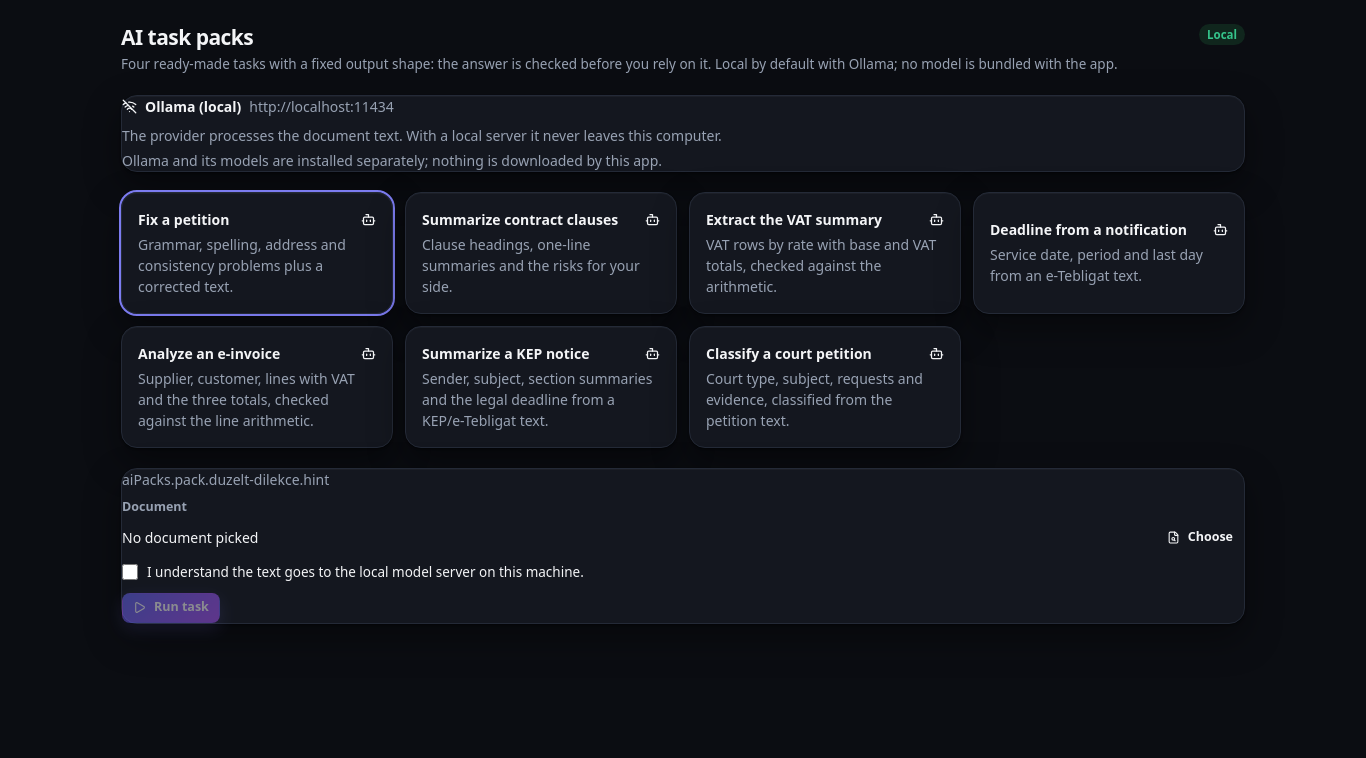
AiPacks (C7) › runs a pack through ai_chat and verifies the structured answer
The image size is (1366, 758).
Expected: the text "Local" is shown, [1199, 24, 1245, 45]
Click the button "Choose".
click(1200, 537)  # box [1156, 522, 1244, 552]
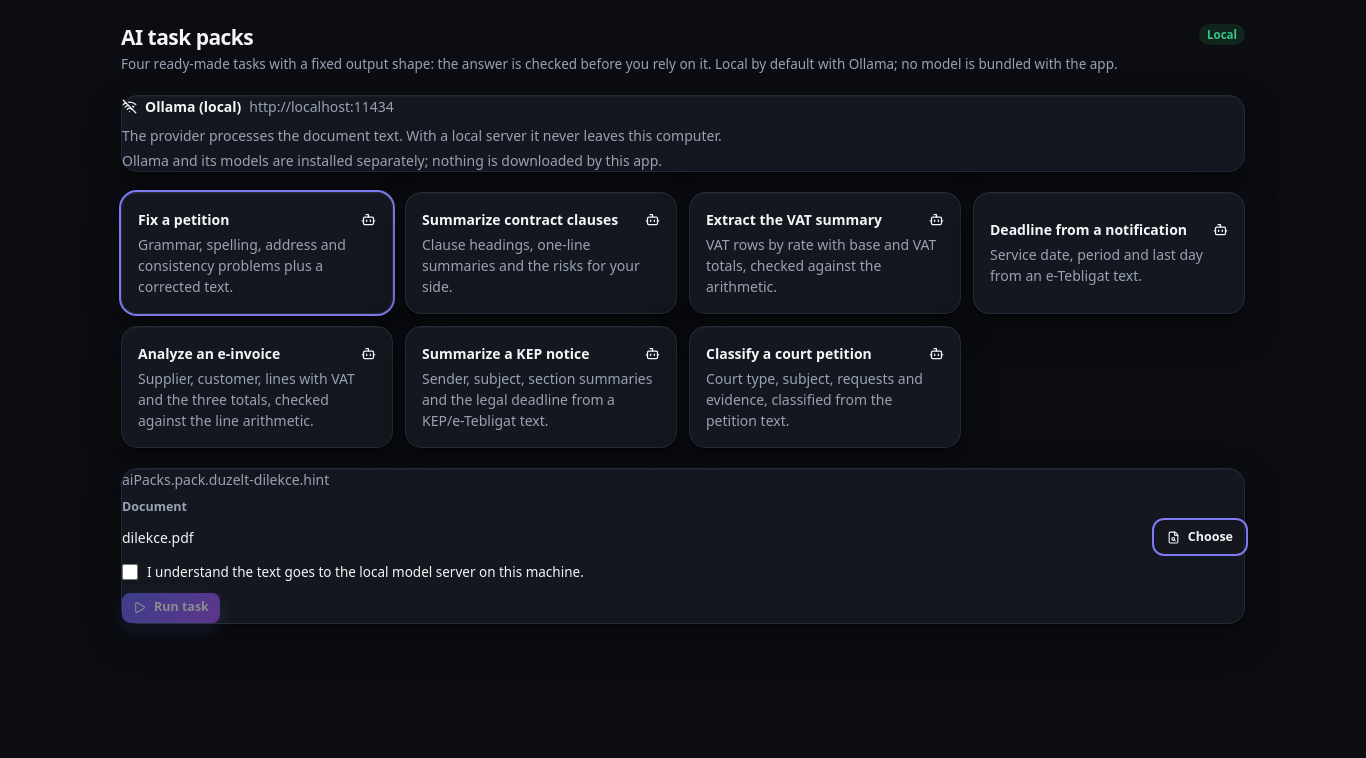
Expected: the text "dilekce.pdf" is shown, [122, 528, 194, 547]
Click the checkbox.
click(130, 572)  # box [122, 564, 138, 580]
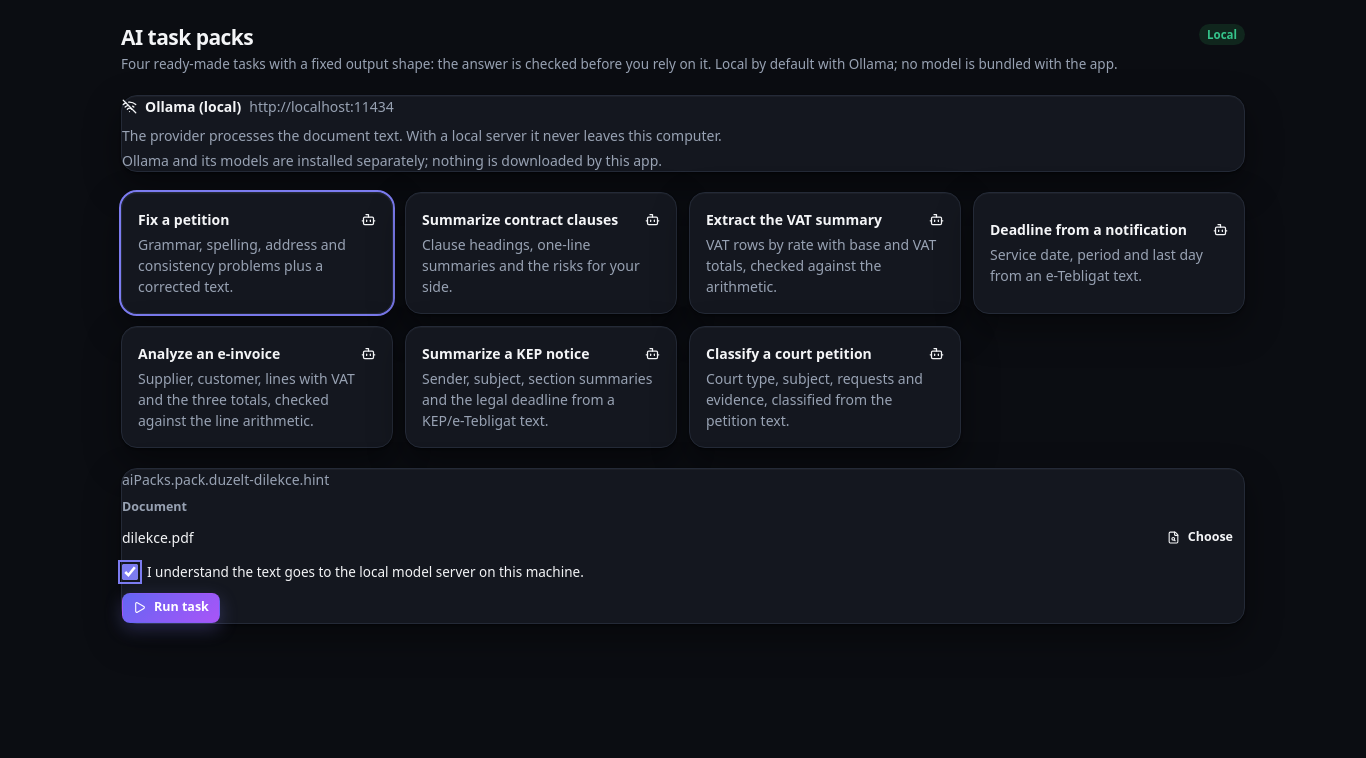
Click the button "Run task".
click(171, 608)  # box [122, 592, 220, 622]
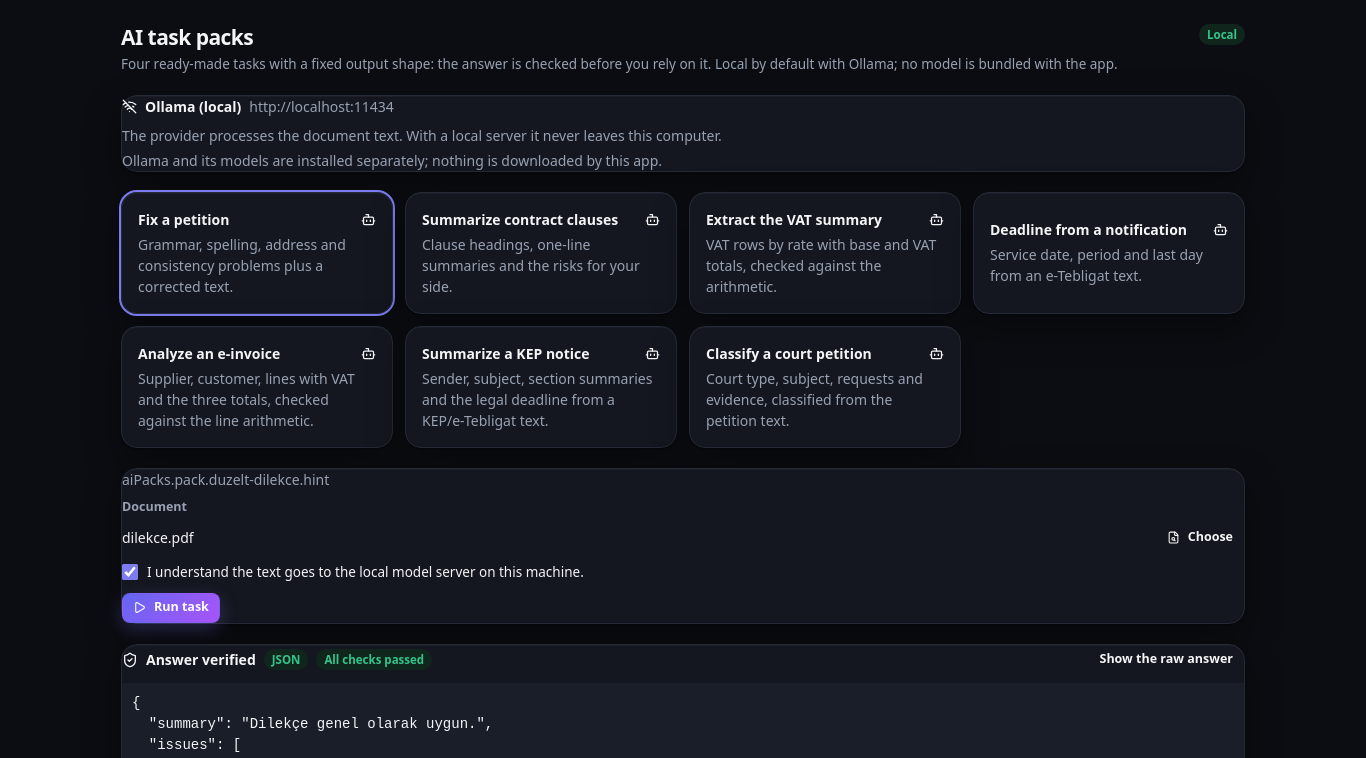
Expected: the text "Answer verified" is shown, [146, 649, 256, 670]
Expected: the text "All checks passed" is shown, [316, 649, 432, 670]
